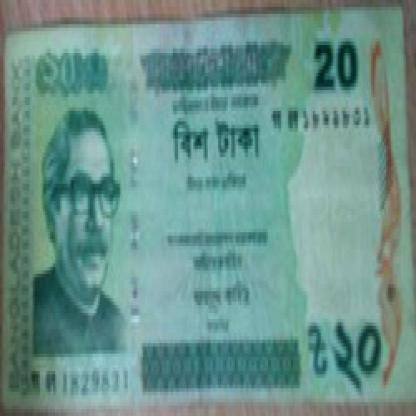Twenty: (172, 111, 274, 173), (308, 319, 383, 388), (38, 48, 112, 111), (310, 28, 370, 97)
